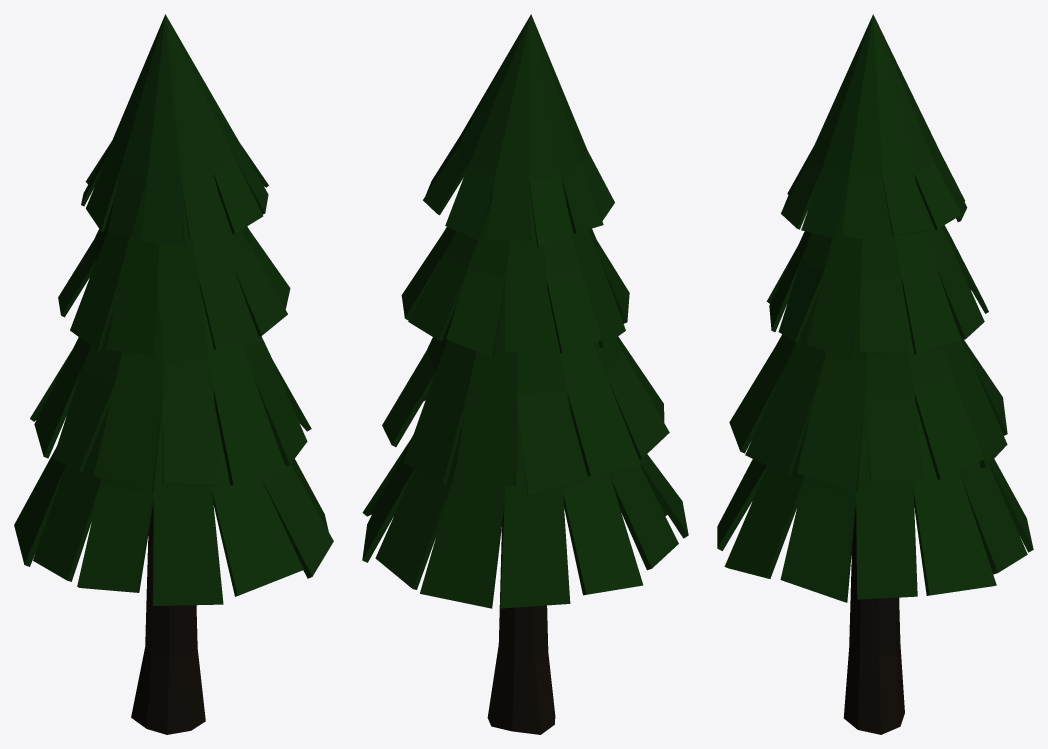
Rendered from pineTree.obj.
3 views of the same model, side by side, from view 1: azimuth 30°, elevation 25°; view 2: azimuth 150°, elevation 25°; view 3: azimuth 270°, elevation 25° (orthographic).
Parts seen in each view (by area): view 1: NaturePack Tree2; view 2: NaturePack Tree2; view 3: NaturePack Tree2.
Boxes of the visible parts, <box> form: NaturePack Tree2: <box>14,14,333,734</box>; NaturePack Tree2: <box>362,14,688,734</box>; NaturePack Tree2: <box>717,14,1033,734</box>.
Bounding box in the file's own units: 6.55 × 16.29 × 6.65.
